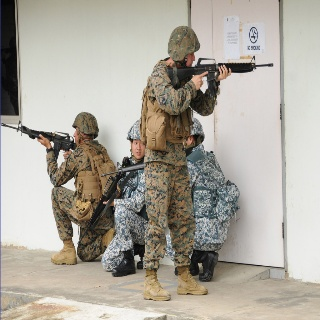rifle: (78, 155, 130, 246), (166, 55, 276, 92), (1, 120, 80, 162)
